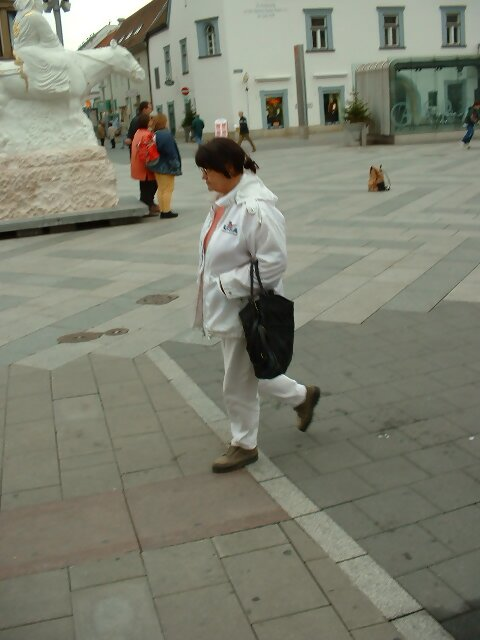person: (176, 134, 321, 479)
